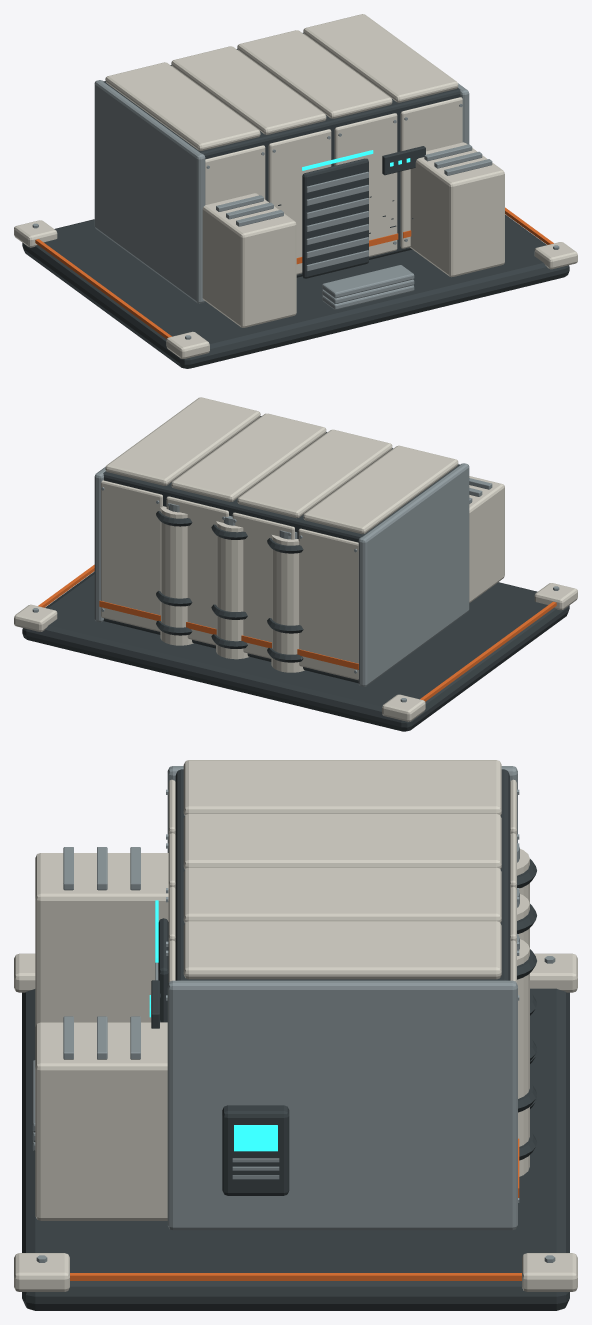
Rendered from SM_HighDensityPowerPlant_Body.fbx.
The picture shows the model from 3 angles, top to bottom: view 1: azimuth 30°, elevation 25°; view 2: azimuth 150°, elevation 25°; view 3: azimuth 270°, elevation 25°; orthographic projection. The views are drawn at different scales.
Parts seen in each view (by area): view 1: SM_HighDensityPowerPlant_Body; view 2: SM_HighDensityPowerPlant_Body; view 3: SM_HighDensityPowerPlant_Body.
Part boxes in pixels (x1,y1,x2,y2): SM_HighDensityPowerPlant_Body: (14, 14, 577, 368); SM_HighDensityPowerPlant_Body: (14, 397, 577, 731); SM_HighDensityPowerPlant_Body: (14, 760, 577, 1310).
Size of the model in its own units: 572 by 422 by 243.
